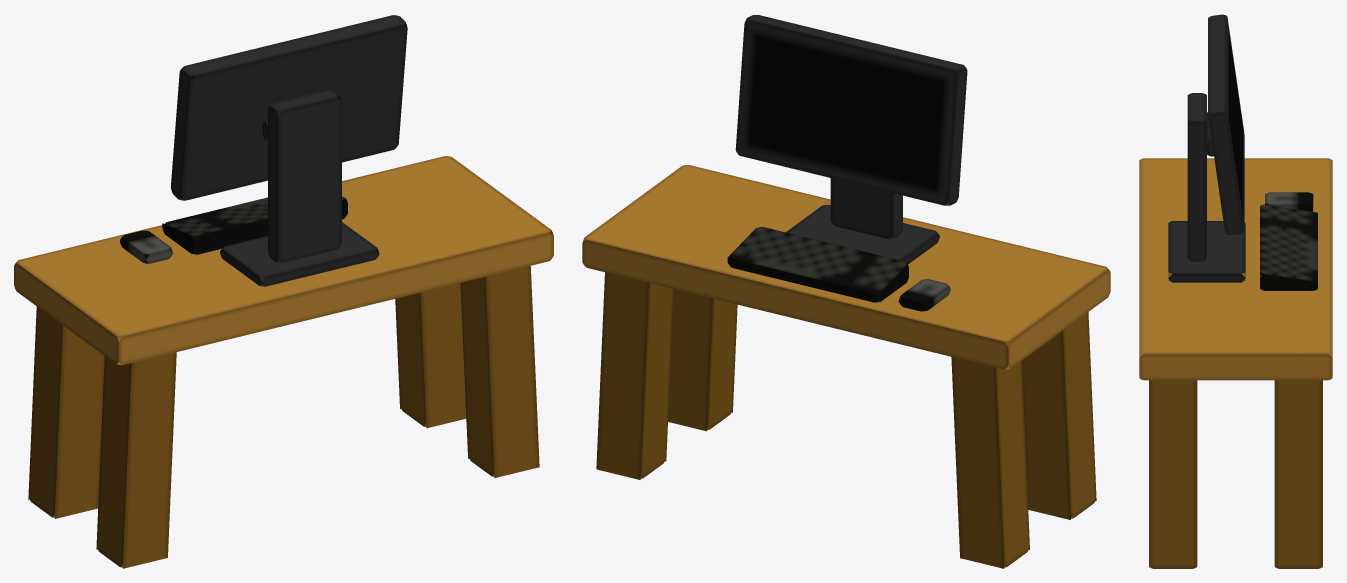
The picture shows the model from 3 angles, left to right: view 1: azimuth 30°, elevation 25°; view 2: azimuth 150°, elevation 25°; view 3: azimuth 270°, elevation 25°; orthographic projection. The views are drawn at different scales.
Parts seen in each view (by area): view 1: cuboid, cuboid_1, cuboid_7, cuboid_10, cuboid_8, cuboid_2, cuboid_9, cuboid_4, cuboid_6, cuboid_5; view 2: cuboid, cuboid_1, cuboid_8, cuboid_9, cuboid_7, cuboid_10, cuboid_6, cuboid_4, cuboid_2, cuboid_5; view 3: cuboid, cuboid_9, cuboid_10, cuboid_1, cuboid_6, cuboid_4, cuboid_2, cuboid_5.
Boxes of the visible parts, box(x1,y1,x2,y2) form: cuboid: box(14, 156, 553, 365); cuboid_1: box(170, 15, 407, 200); cuboid_7: box(96, 336, 176, 568); cuboid_10: box(460, 266, 539, 478); cuboid_8: box(28, 306, 104, 518); cuboid_2: box(268, 90, 341, 262); cuboid_9: box(395, 283, 466, 428); cuboid_4: box(220, 222, 379, 286); cuboid_6: box(162, 196, 347, 254); cuboid_5: box(120, 230, 172, 263); cuboid: box(582, 165, 1110, 369); cuboid_1: box(735, 15, 967, 205); cuboid_8: box(951, 341, 1029, 568); cuboid_9: box(596, 272, 673, 479); cuboid_7: box(1022, 312, 1096, 519); cuboid_10: box(668, 289, 737, 431); cuboid_6: box(727, 227, 908, 302); cuboid_4: box(786, 204, 939, 264); cuboid_2: box(830, 178, 902, 239); cuboid_5: box(898, 279, 950, 311); cuboid: box(1139, 158, 1332, 380); cuboid_9: box(1274, 380, 1322, 568); cuboid_10: box(1149, 380, 1197, 568); cuboid_1: box(1208, 14, 1244, 235); cuboid_6: box(1260, 204, 1317, 290); cuboid_4: box(1168, 221, 1245, 282); cuboid_2: box(1187, 93, 1206, 261); cuboid_5: box(1265, 192, 1313, 211).
Bounding box in the file's own units: 300 × 294 × 125.
1 material, 1 textured.
